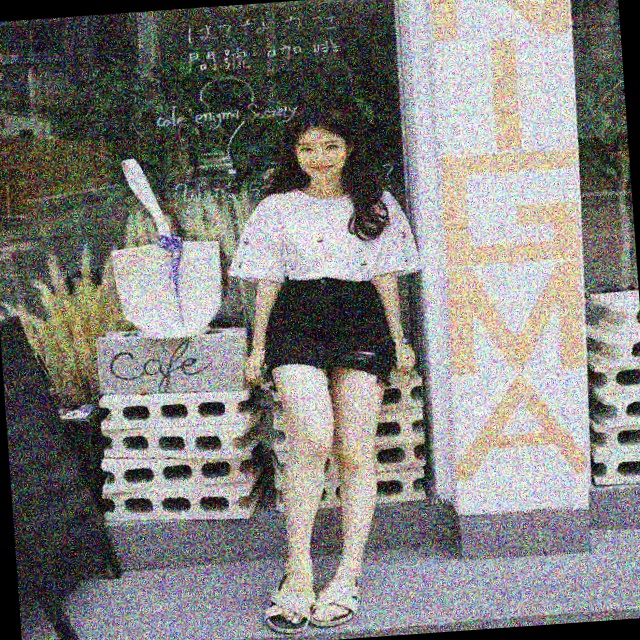Miniskirt: (256, 271, 409, 566)
